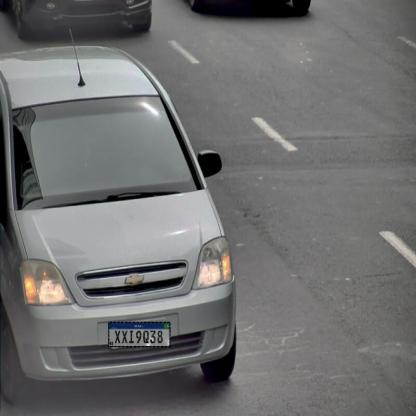PlacaM: (108, 322, 171, 347)
